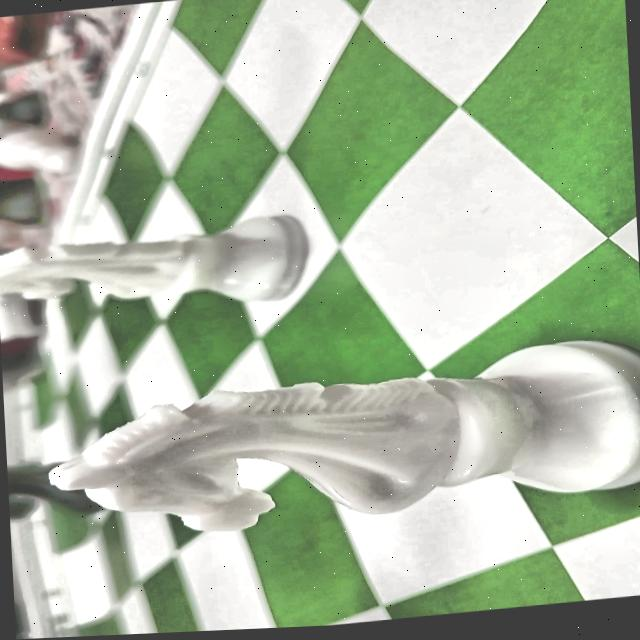BlackKnight: (7, 456, 118, 525)
WhiteKnight: (40, 335, 640, 550), (0, 209, 305, 325)
